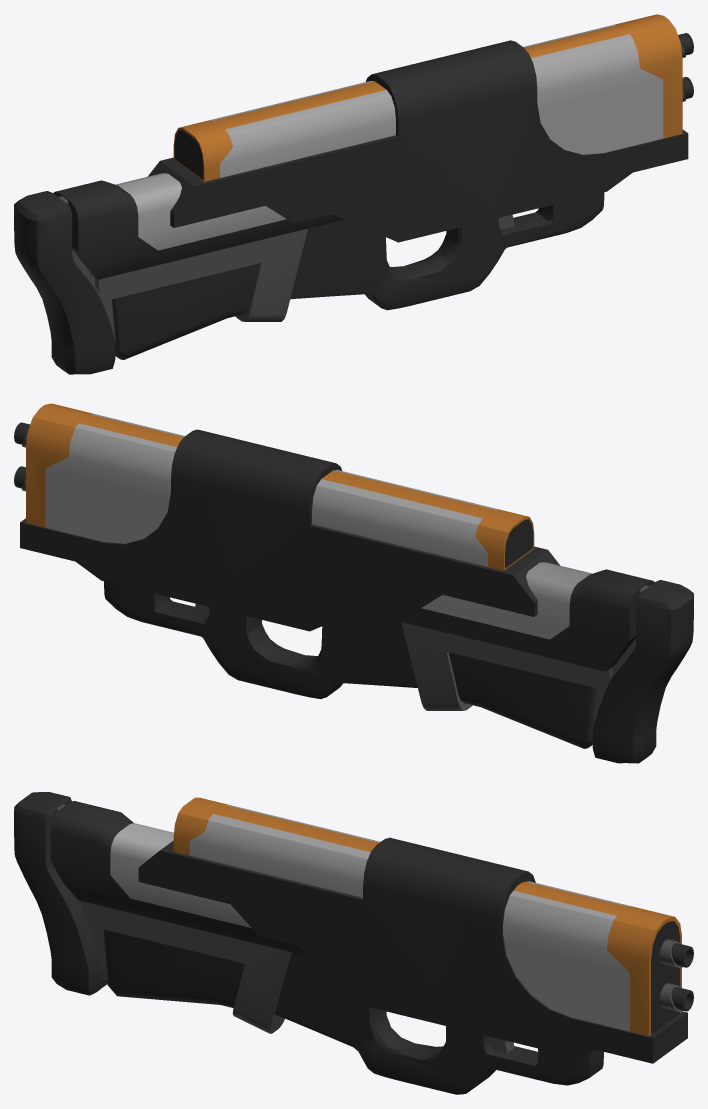
Rendered from quaternius-modular-sci-fi-guns-ar-2.glb.
3 renders of one model, top to bottom at view 1: azimuth 30°, elevation 25°; view 2: azimuth 150°, elevation 25°; view 3: azimuth 330°, elevation 25°, orthographic.
Parts seen in each view (by area): view 1: AR_2; view 2: AR_2; view 3: AR_2.
Boxes of the visible parts, left/top/right/bottom form: AR_2: left=14, top=14, right=693, bottom=374; AR_2: left=14, top=403, right=693, bottom=763; AR_2: left=14, top=792, right=693, bottom=1094.
Size of the model in its own units: 1.49 by 0.4865 by 0.1355.
